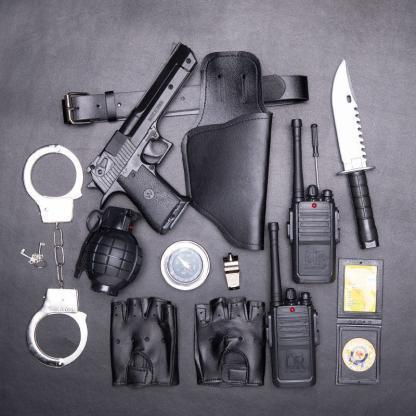Grenade: (75, 205, 145, 298)
Knife: (331, 57, 383, 250)
Pistol: (84, 39, 199, 236)
